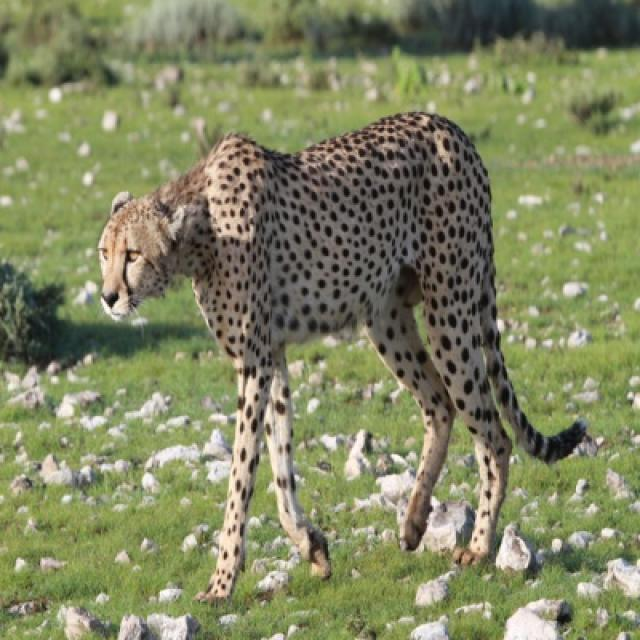Cheetah: (98, 110, 603, 603)
